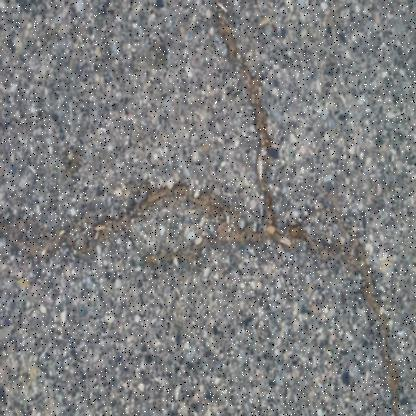Cracks: (0, 173, 402, 415), (214, 0, 278, 234)
